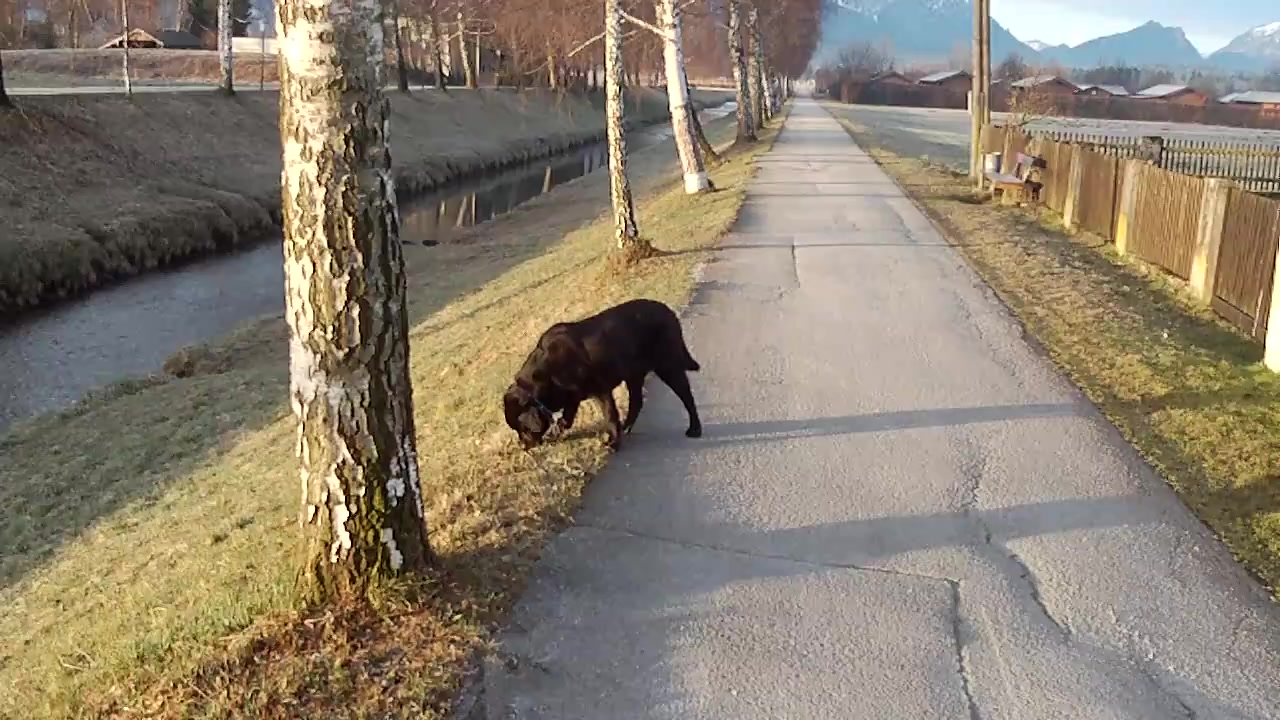dog: (500, 295, 702, 452)
